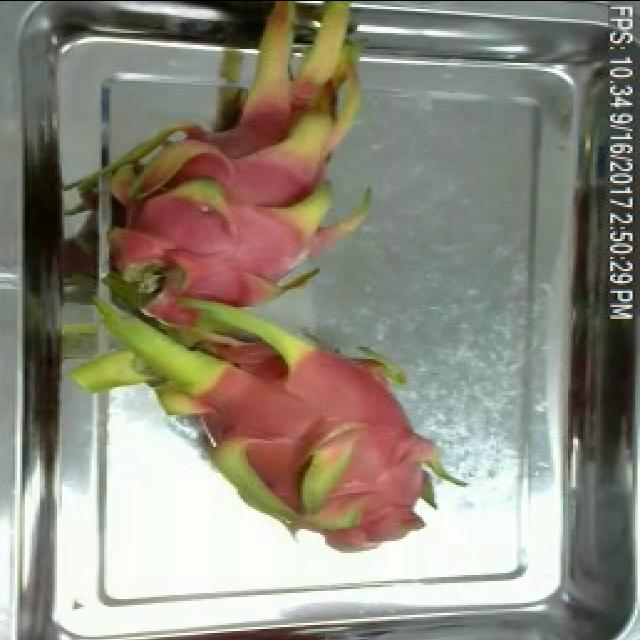Fruit: (290, 414, 446, 560)
